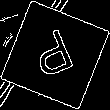P_SE: (28, 24, 82, 86)
